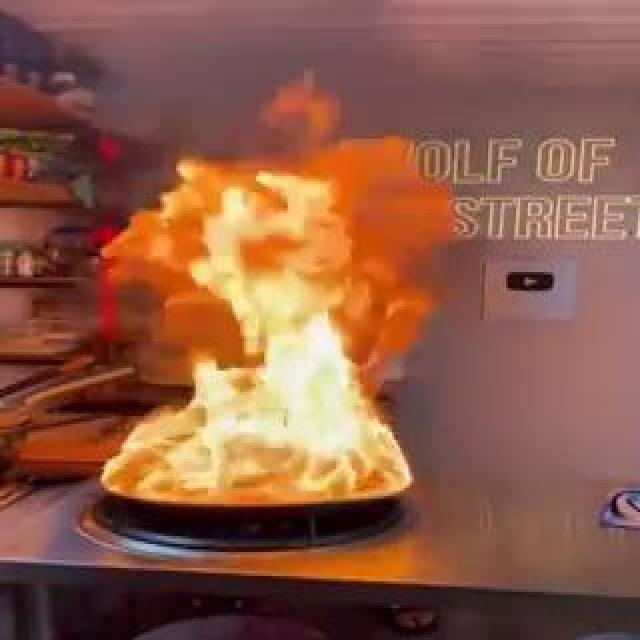Fire: (274, 334, 360, 358)
